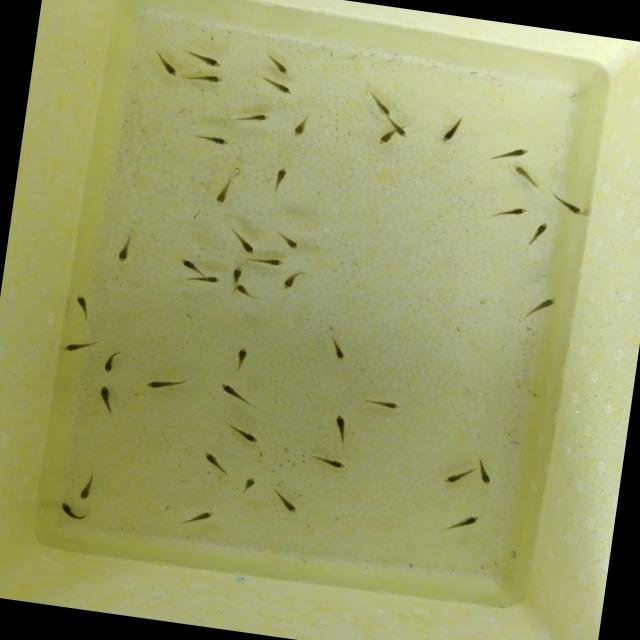fingerling: (182, 46, 234, 72), (227, 228, 266, 260), (138, 372, 190, 396), (255, 76, 302, 100), (548, 192, 590, 218), (320, 332, 354, 364), (224, 423, 267, 448), (258, 49, 294, 78), (437, 115, 468, 148), (365, 89, 397, 120), (448, 508, 483, 536), (210, 176, 237, 212), (266, 487, 302, 514), (216, 380, 253, 406), (150, 51, 182, 81), (306, 452, 354, 472), (527, 292, 561, 320), (93, 382, 121, 416), (74, 470, 102, 504), (236, 106, 275, 130), (62, 334, 101, 358), (111, 234, 138, 268), (182, 505, 218, 530), (70, 291, 96, 325), (326, 412, 355, 442), (266, 164, 292, 197), (495, 201, 535, 222), (440, 464, 470, 492), (196, 447, 228, 473), (273, 229, 306, 254), (290, 110, 314, 144), (276, 269, 308, 294), (472, 456, 497, 488), (184, 72, 232, 88), (528, 216, 552, 248), (364, 394, 404, 413), (496, 142, 532, 163), (508, 162, 540, 185), (98, 349, 124, 376), (56, 501, 86, 524), (230, 344, 253, 372), (194, 132, 233, 148), (238, 472, 260, 497), (385, 120, 415, 138), (369, 132, 397, 148), (178, 258, 205, 273), (232, 282, 255, 298), (264, 256, 290, 270), (195, 274, 222, 286), (230, 265, 247, 281)
